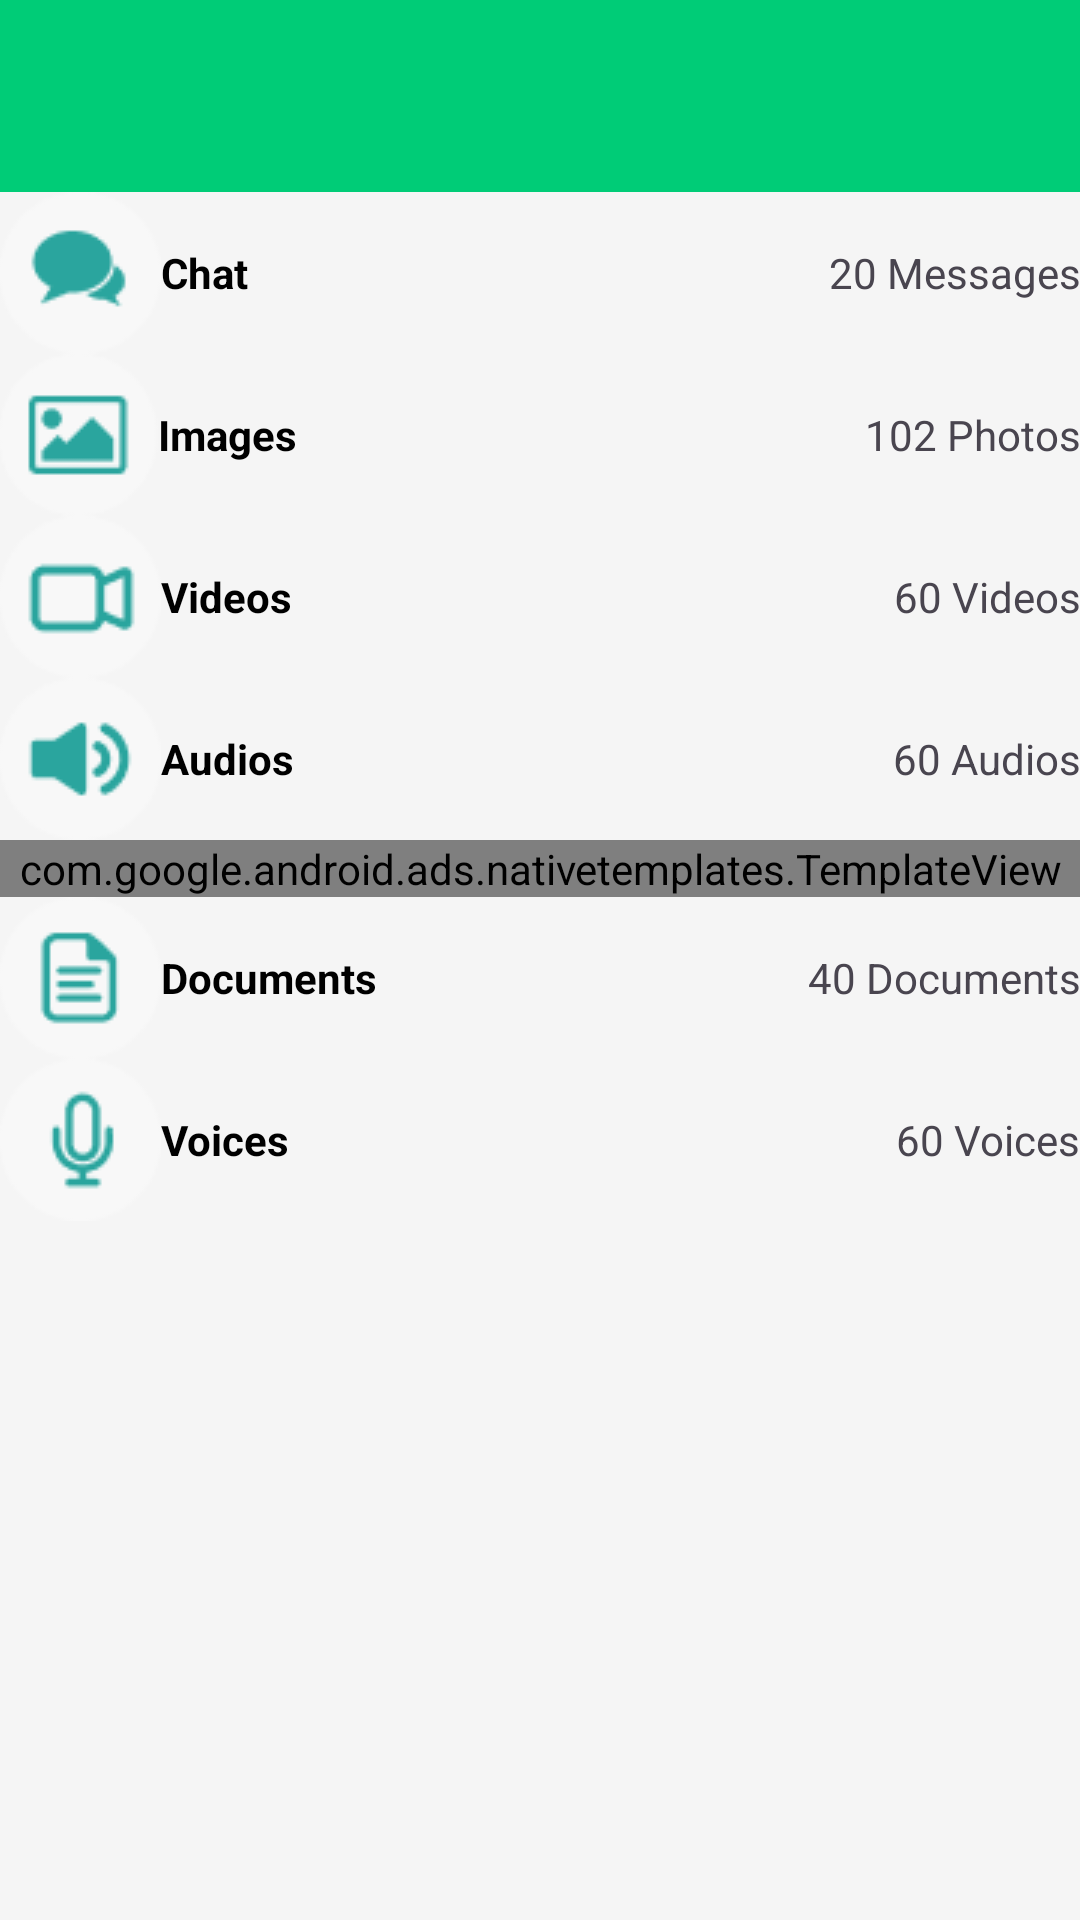

Icon bounding boxes for this 1080px×1920px phone screenshot, format (x1, y1, x2, y2):
audio whatsdelete: (29, 722, 131, 796)
document deletewhats: (40, 932, 117, 1024)
video deletewhats: (29, 564, 134, 633)
voice deletewhats: (52, 1092, 114, 1188)
